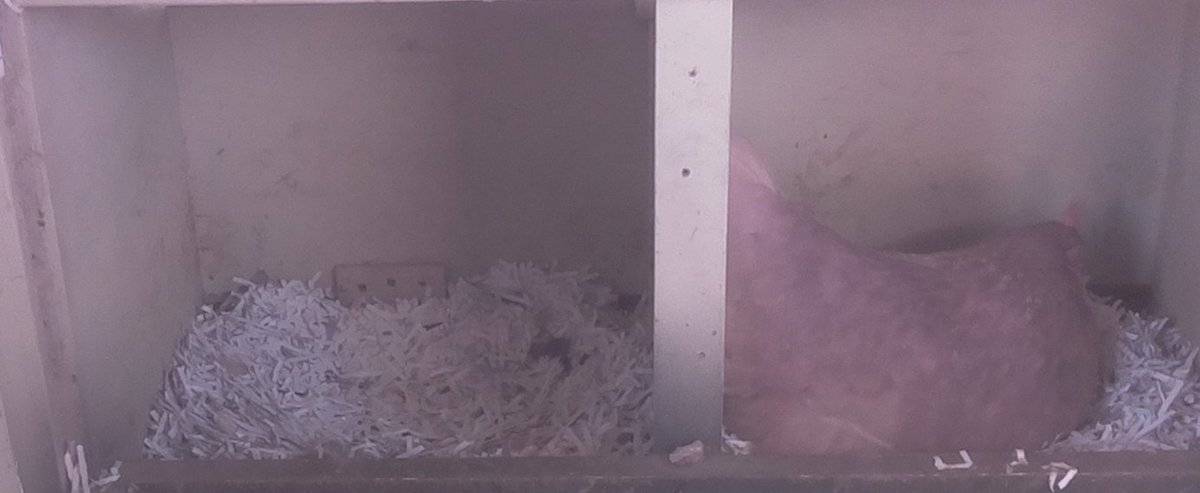hen: (728, 128, 1119, 453)
